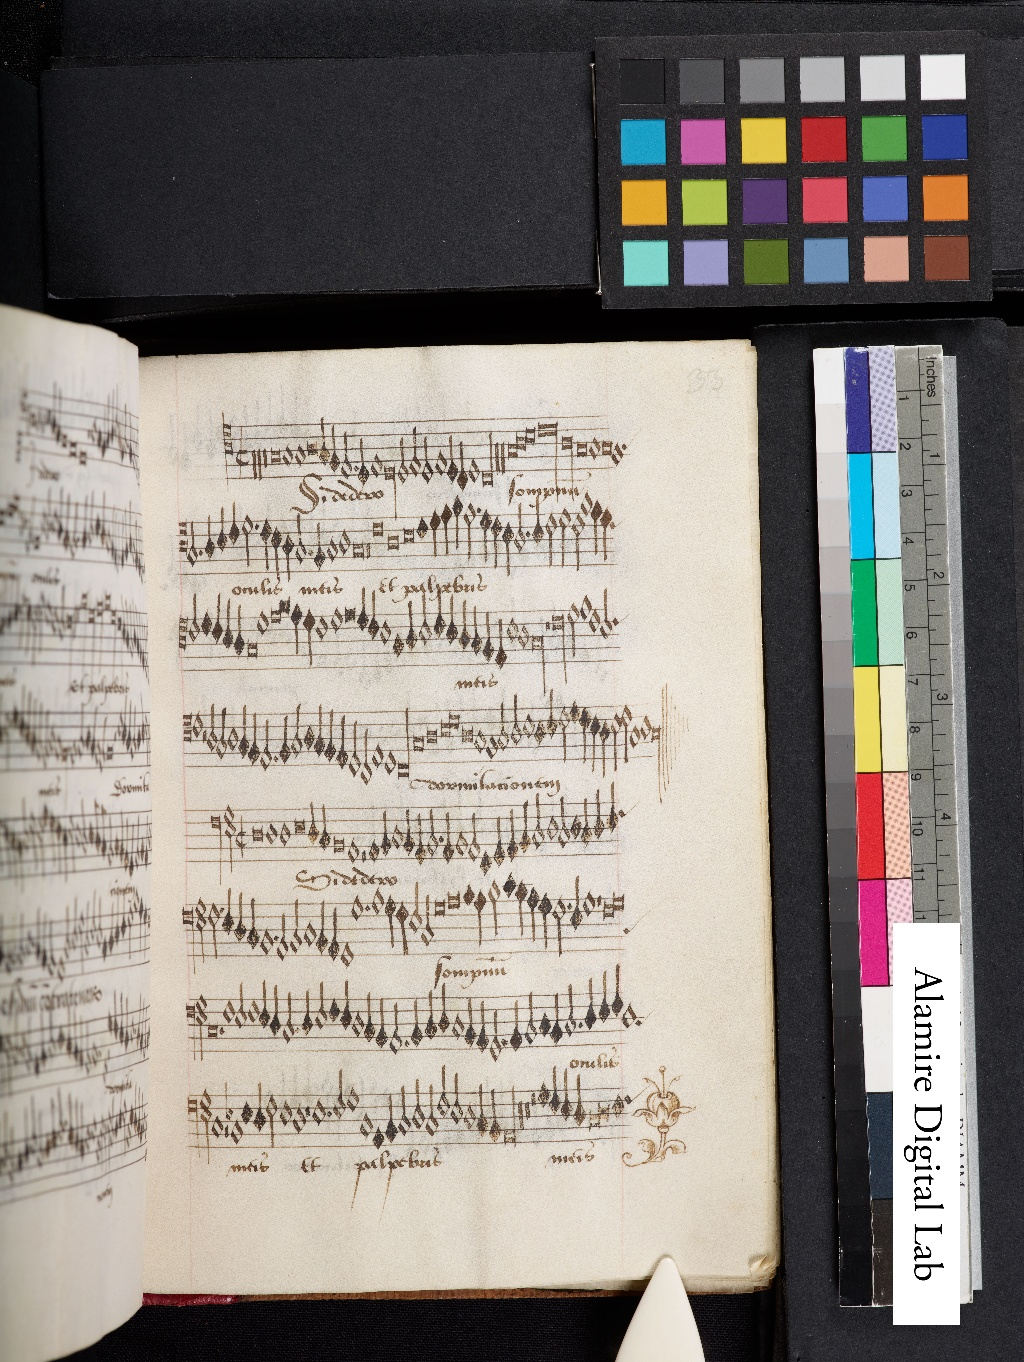otherpage: (1, 306, 153, 1324)
staff: (163, 680, 657, 789), (166, 870, 659, 979), (181, 1049, 674, 1158), (171, 780, 664, 889), (174, 964, 667, 1073), (173, 490, 636, 581), (173, 584, 636, 676), (205, 405, 631, 490)
